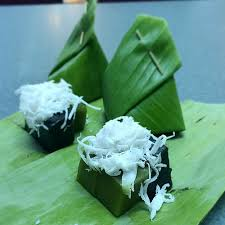kanompiakpoon: (80, 112, 180, 220), (16, 77, 88, 155)
